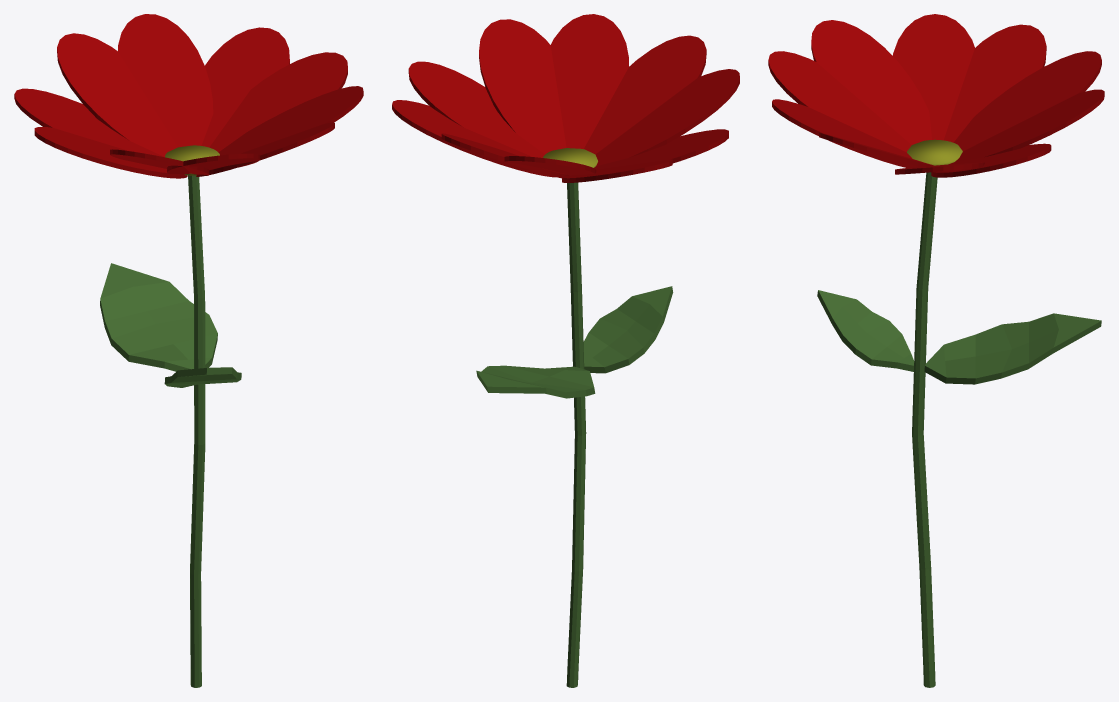
File: flower.fbx
The picture shows the model from 3 angles, left to right: view 1: azimuth 30°, elevation 25°; view 2: azimuth 150°, elevation 25°; view 3: azimuth 270°, elevation 25°; orthographic projection.
Parts seen in each view (by area): view 1: Plane; view 2: Plane; view 3: Plane.
Part boxes in pixels (bbox=[...]): Plane: bbox=[14, 14, 363, 687]; Plane: bbox=[392, 14, 739, 687]; Plane: bbox=[768, 14, 1104, 687].
Size of the model in its own units: 57.62 by 107 by 53.65.
